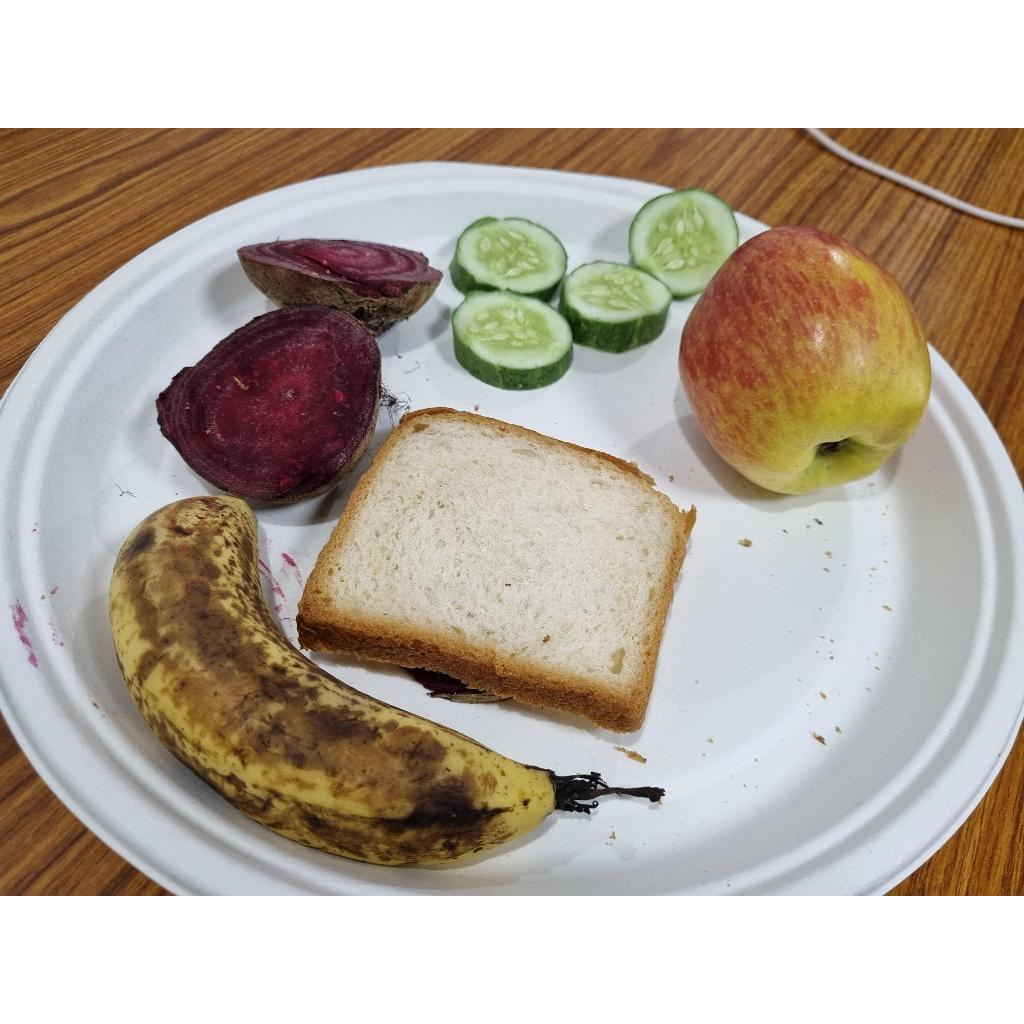apple: (685, 228, 932, 498)
banana: (106, 496, 562, 872)
cucumber: (626, 190, 748, 299), (452, 290, 574, 394), (447, 216, 568, 311), (562, 261, 674, 353)
